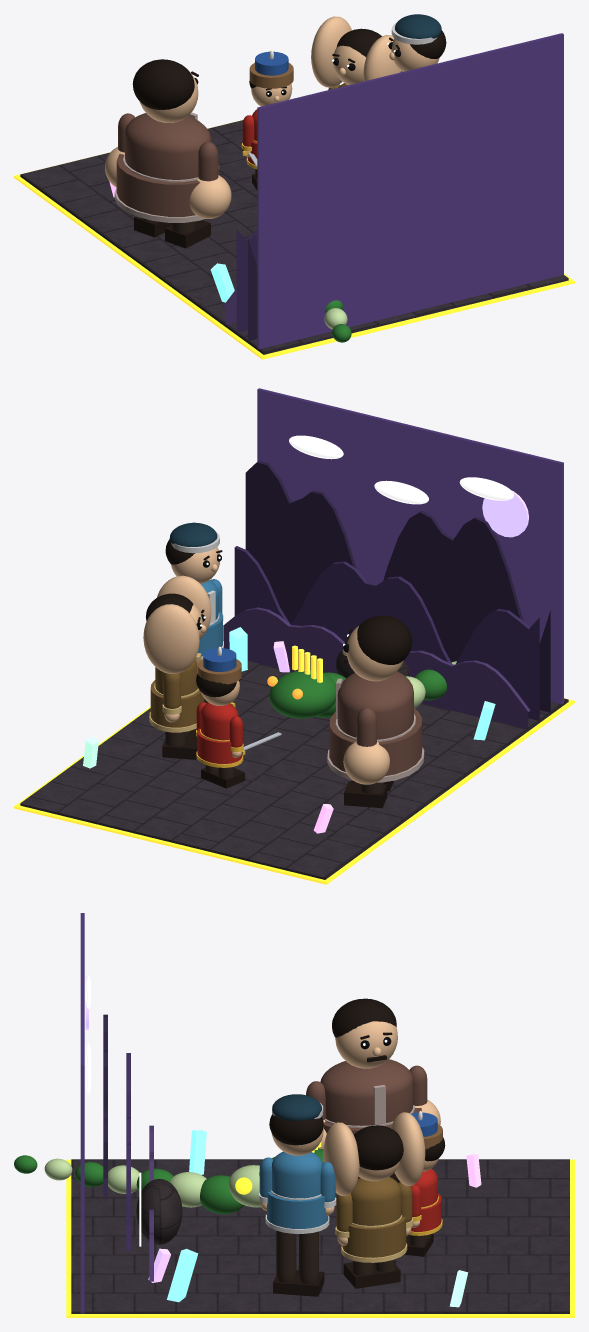
The picture shows the model from 3 angles, top to bottom: view 1: azimuth 30°, elevation 25°; view 2: azimuth 150°, elevation 25°; view 3: azimuth 270°, elevation 25°; orthographic projection. The views are drawn at different scales.
Visible parts, largest first — view 1: Аспан, Жер, Torso, Hair (×3), Жиек, Face (×4), Skirt, BigEar (×2), Hand, Үңгір 2, Boot (×2), Takiya (+6 smaller); view 2: Жер, Аспан, Үңгір қабырғасы, Үңгір 2, Үңгір 3, Torso (×3), BigEar (×2), Skirt (×3), Жиек, Бұлт (×3), Head, Face (×2) (+9 smaller); view 3: Жер, Torso (×4), Hair (×3), Skirt (×3), Ball (×5), Жиек, BigEar (×2), obj_rock, Leg (×2), Аспан, Face, Sleeve (×3) (+6 smaller).
Part boxes in pixels (left/top/right/bottom): Аспан: left=257, top=33, right=563, bottom=349; Жер: left=20, top=120, right=568, bottom=354; Torso: left=125, top=113, right=211, bottom=179; Hair (×3): left=132, top=28, right=446, bottom=109; Жиек: left=14, top=120, right=574, bottom=359; Face (×4): left=139, top=38, right=439, bottom=122; Skirt: left=116, top=154, right=219, bottom=216; BigEar (×2): left=311, top=16, right=400, bottom=87; Hand: left=189, top=175, right=231, bottom=218; Үңгір 2: left=236, top=229, right=257, bottom=332; Boot (×2): left=134, top=216, right=210, bottom=248; Takiya: left=395, top=14, right=441, bottom=38; Жер: left=20, top=661, right=568, bottom=879; Аспан: left=257, top=388, right=563, bottom=704; Үңгір қабырғасы: left=245, top=461, right=550, bottom=712; Үңгір 2: left=234, top=546, right=539, bottom=720; Үңгір 3: left=223, top=607, right=530, bottom=728; Torso (×3): left=155, top=658, right=413, bottom=740; BigEar (×2): left=143, top=575, right=211, bottom=673; Skirt (×3): left=150, top=680, right=422, bottom=775; Жиек: left=14, top=698, right=574, bottom=884; Бұлт (×3): left=289, top=435, right=513, bottom=504; Head: left=269, top=670, right=335, bottom=718; Face (×2): left=171, top=547, right=403, bottom=681; Жер: left=71, top=1159, right=569, bottom=1313; Torso (×4): left=271, top=1059, right=437, bottom=1225; Hair (×3): left=269, top=998, right=403, bottom=1170; Skirt (×3): left=267, top=1192, right=441, bottom=1257; Ball (×5): left=75, top=1162, right=261, bottom=1214; Жиек: left=66, top=1159, right=574, bottom=1317; BigEar (×2): left=323, top=1112, right=425, bottom=1196; obj_rock: left=136, top=1179, right=182, bottom=1244; Leg (×2): left=276, top=1230, right=318, bottom=1284; Аспан: left=80, top=913, right=84, bottom=1313; Face: left=335, top=1021, right=397, bottom=1068; Sleeve (×3): left=320, top=1065, right=427, bottom=1231.
Bounding box in the file's own units: 0.9635 × 0.7241 × 1.46.
Materials: 38 (2 with a texture image).
